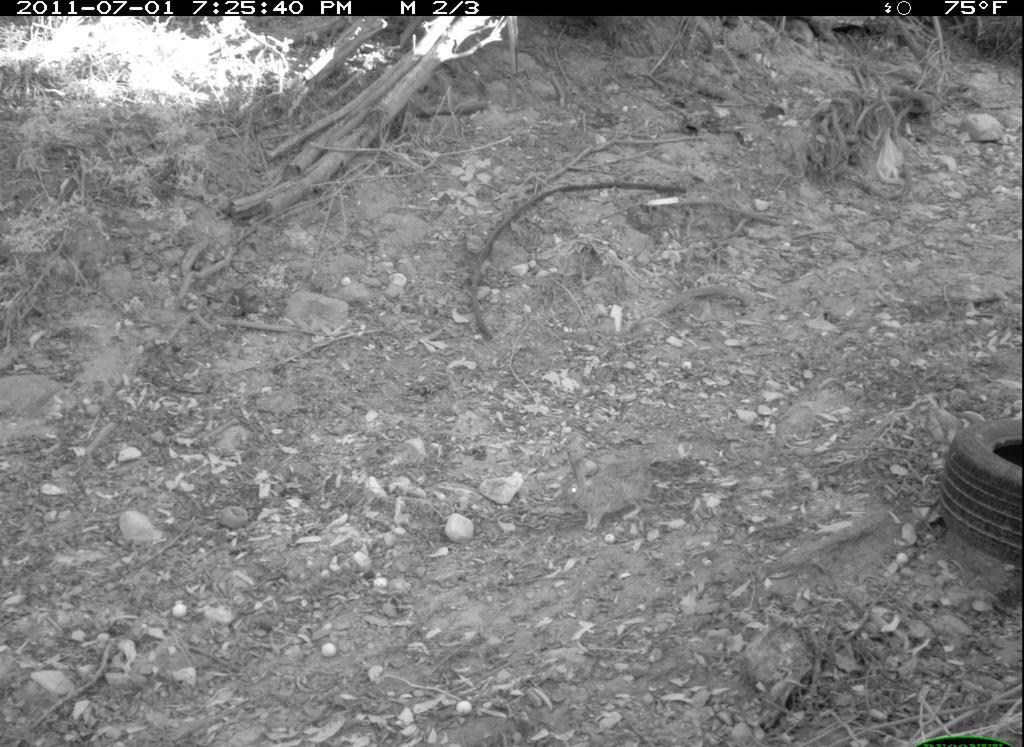rabbit: (555, 446, 658, 536)
